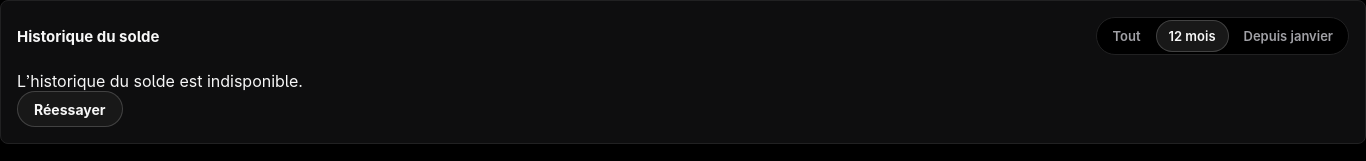
Test case: shows an explicit empty history and retries failed reads
Click the button "Réessayer" at (70, 109), box [17, 91, 122, 127]
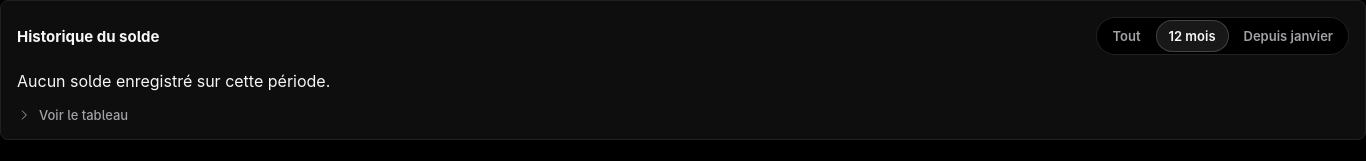
Check: the text "Aucun solde enregistré sur cette période." is shown, box [17, 71, 330, 91]
